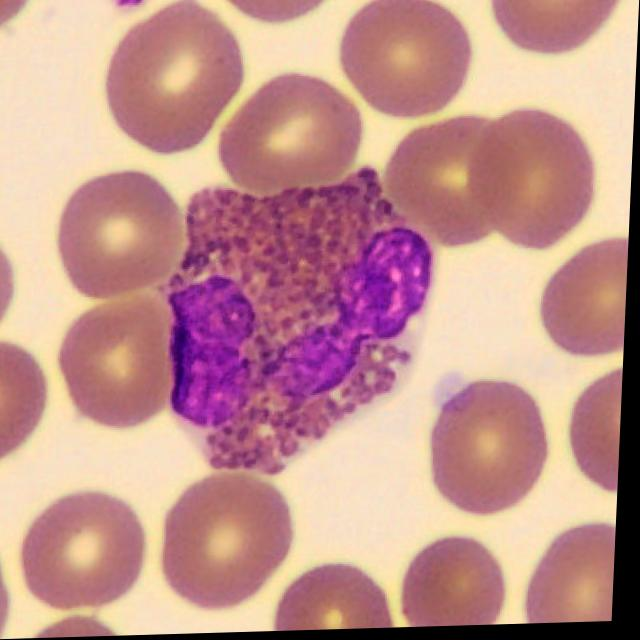Eosinofilo: (167, 170, 437, 476)
